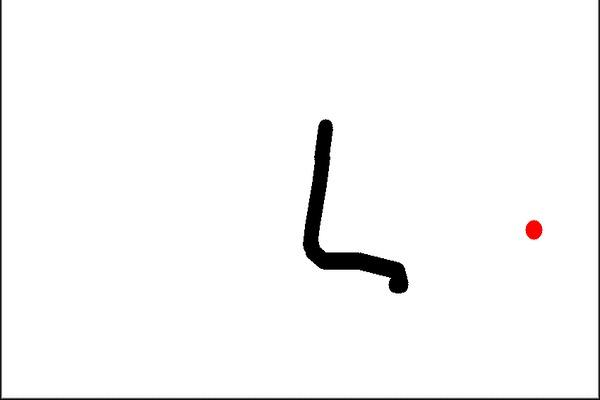L: (298, 111, 412, 302)
